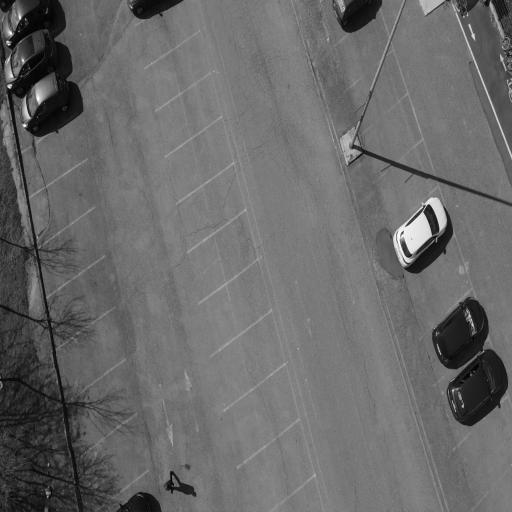person: (447, 349, 503, 422), (393, 197, 447, 268), (4, 30, 57, 95), (432, 297, 483, 364), (20, 72, 68, 132), (2, 0, 51, 47), (333, 0, 371, 26), (118, 493, 150, 511), (128, 0, 161, 15)
